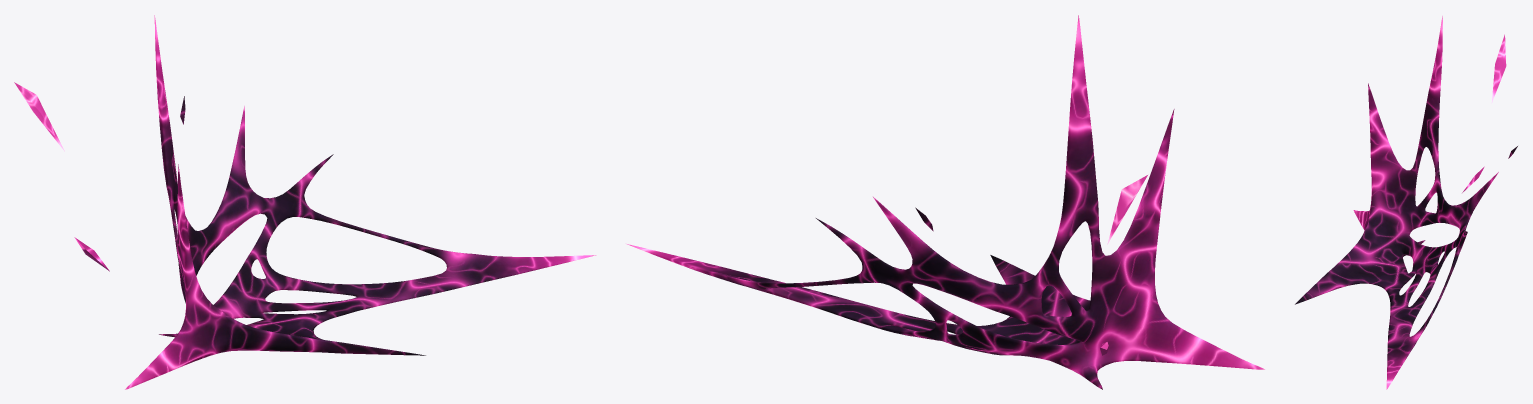
The model's file is caos_hro_chaosconfluence_02a_chaos_v36.glb.
3 views of the same model, side by side, from view 1: azimuth 30°, elevation 25°; view 2: azimuth 150°, elevation 25°; view 3: azimuth 270°, elevation 25° (orthographic). The views are drawn at different scales.
Parts seen in each view (by area): view 1: caos_hro_chaosconfluence_02a; view 2: caos_hro_chaosconfluence_02a; view 3: caos_hro_chaosconfluence_02a.
Boxes of the visible parts, bbox=[...] form: caos_hro_chaosconfluence_02a: bbox=[14, 15, 596, 389]; caos_hro_chaosconfluence_02a: bbox=[627, 15, 1264, 389]; caos_hro_chaosconfluence_02a: bbox=[1295, 16, 1517, 389].
Bounding box in the file's own units: 40.47 × 24.16 × 21.16.
1 material, 1 textured.
